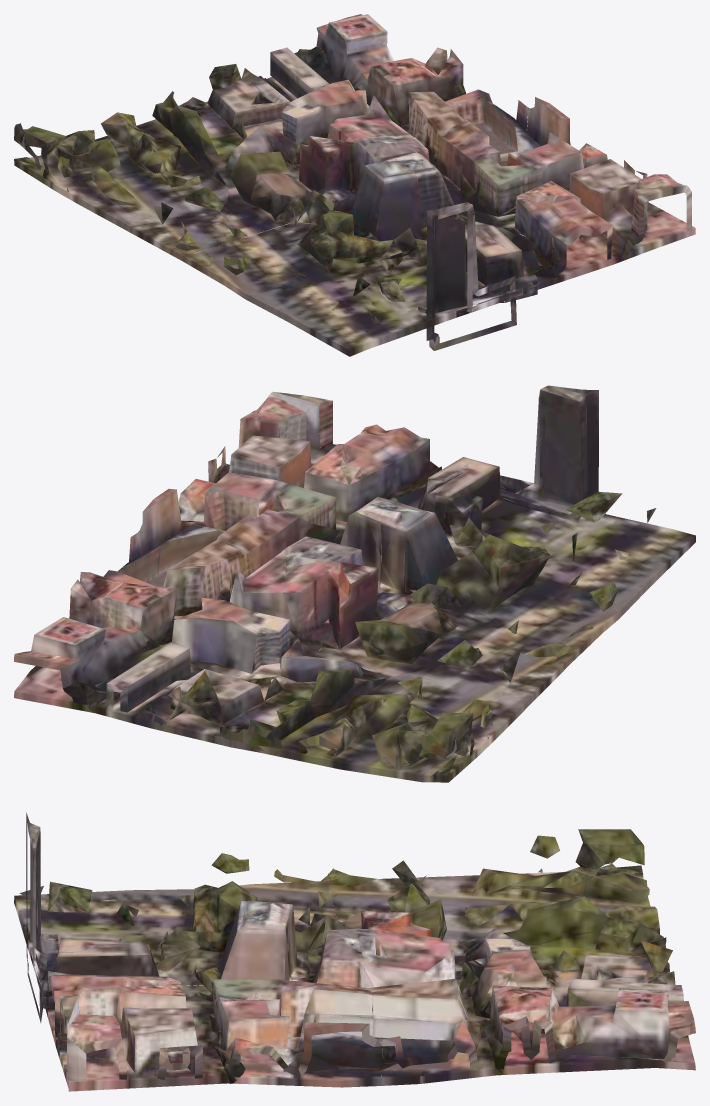
3 views of the same model, one above another, from view 1: azimuth 30°, elevation 25°; view 2: azimuth 150°, elevation 25°; view 3: azimuth 270°, elevation 25° (orthographic). The views are drawn at different scales.
Parts seen in each view (by area): view 1: Mesh_0; view 2: Mesh_0; view 3: Mesh_0.
Boxes of the visible parts, x1=… form: Mesh_0: x1=14, y1=14, x2=695, y2=356; Mesh_0: x1=14, y1=385, x2=695, y2=782; Mesh_0: x1=14, y1=812, x2=695, y2=1091.
Bounding box in the file's own units: 266 × 85.35 × 330.
2 materials, 2 textured.
